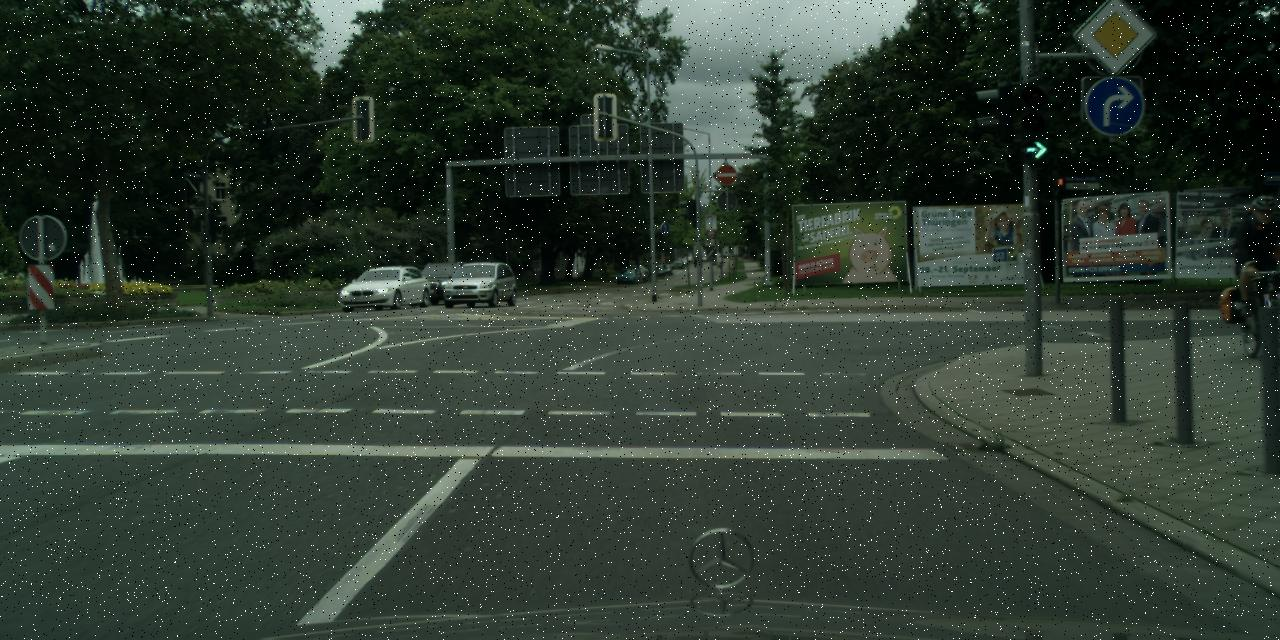ped: (1236, 194, 1279, 340)
